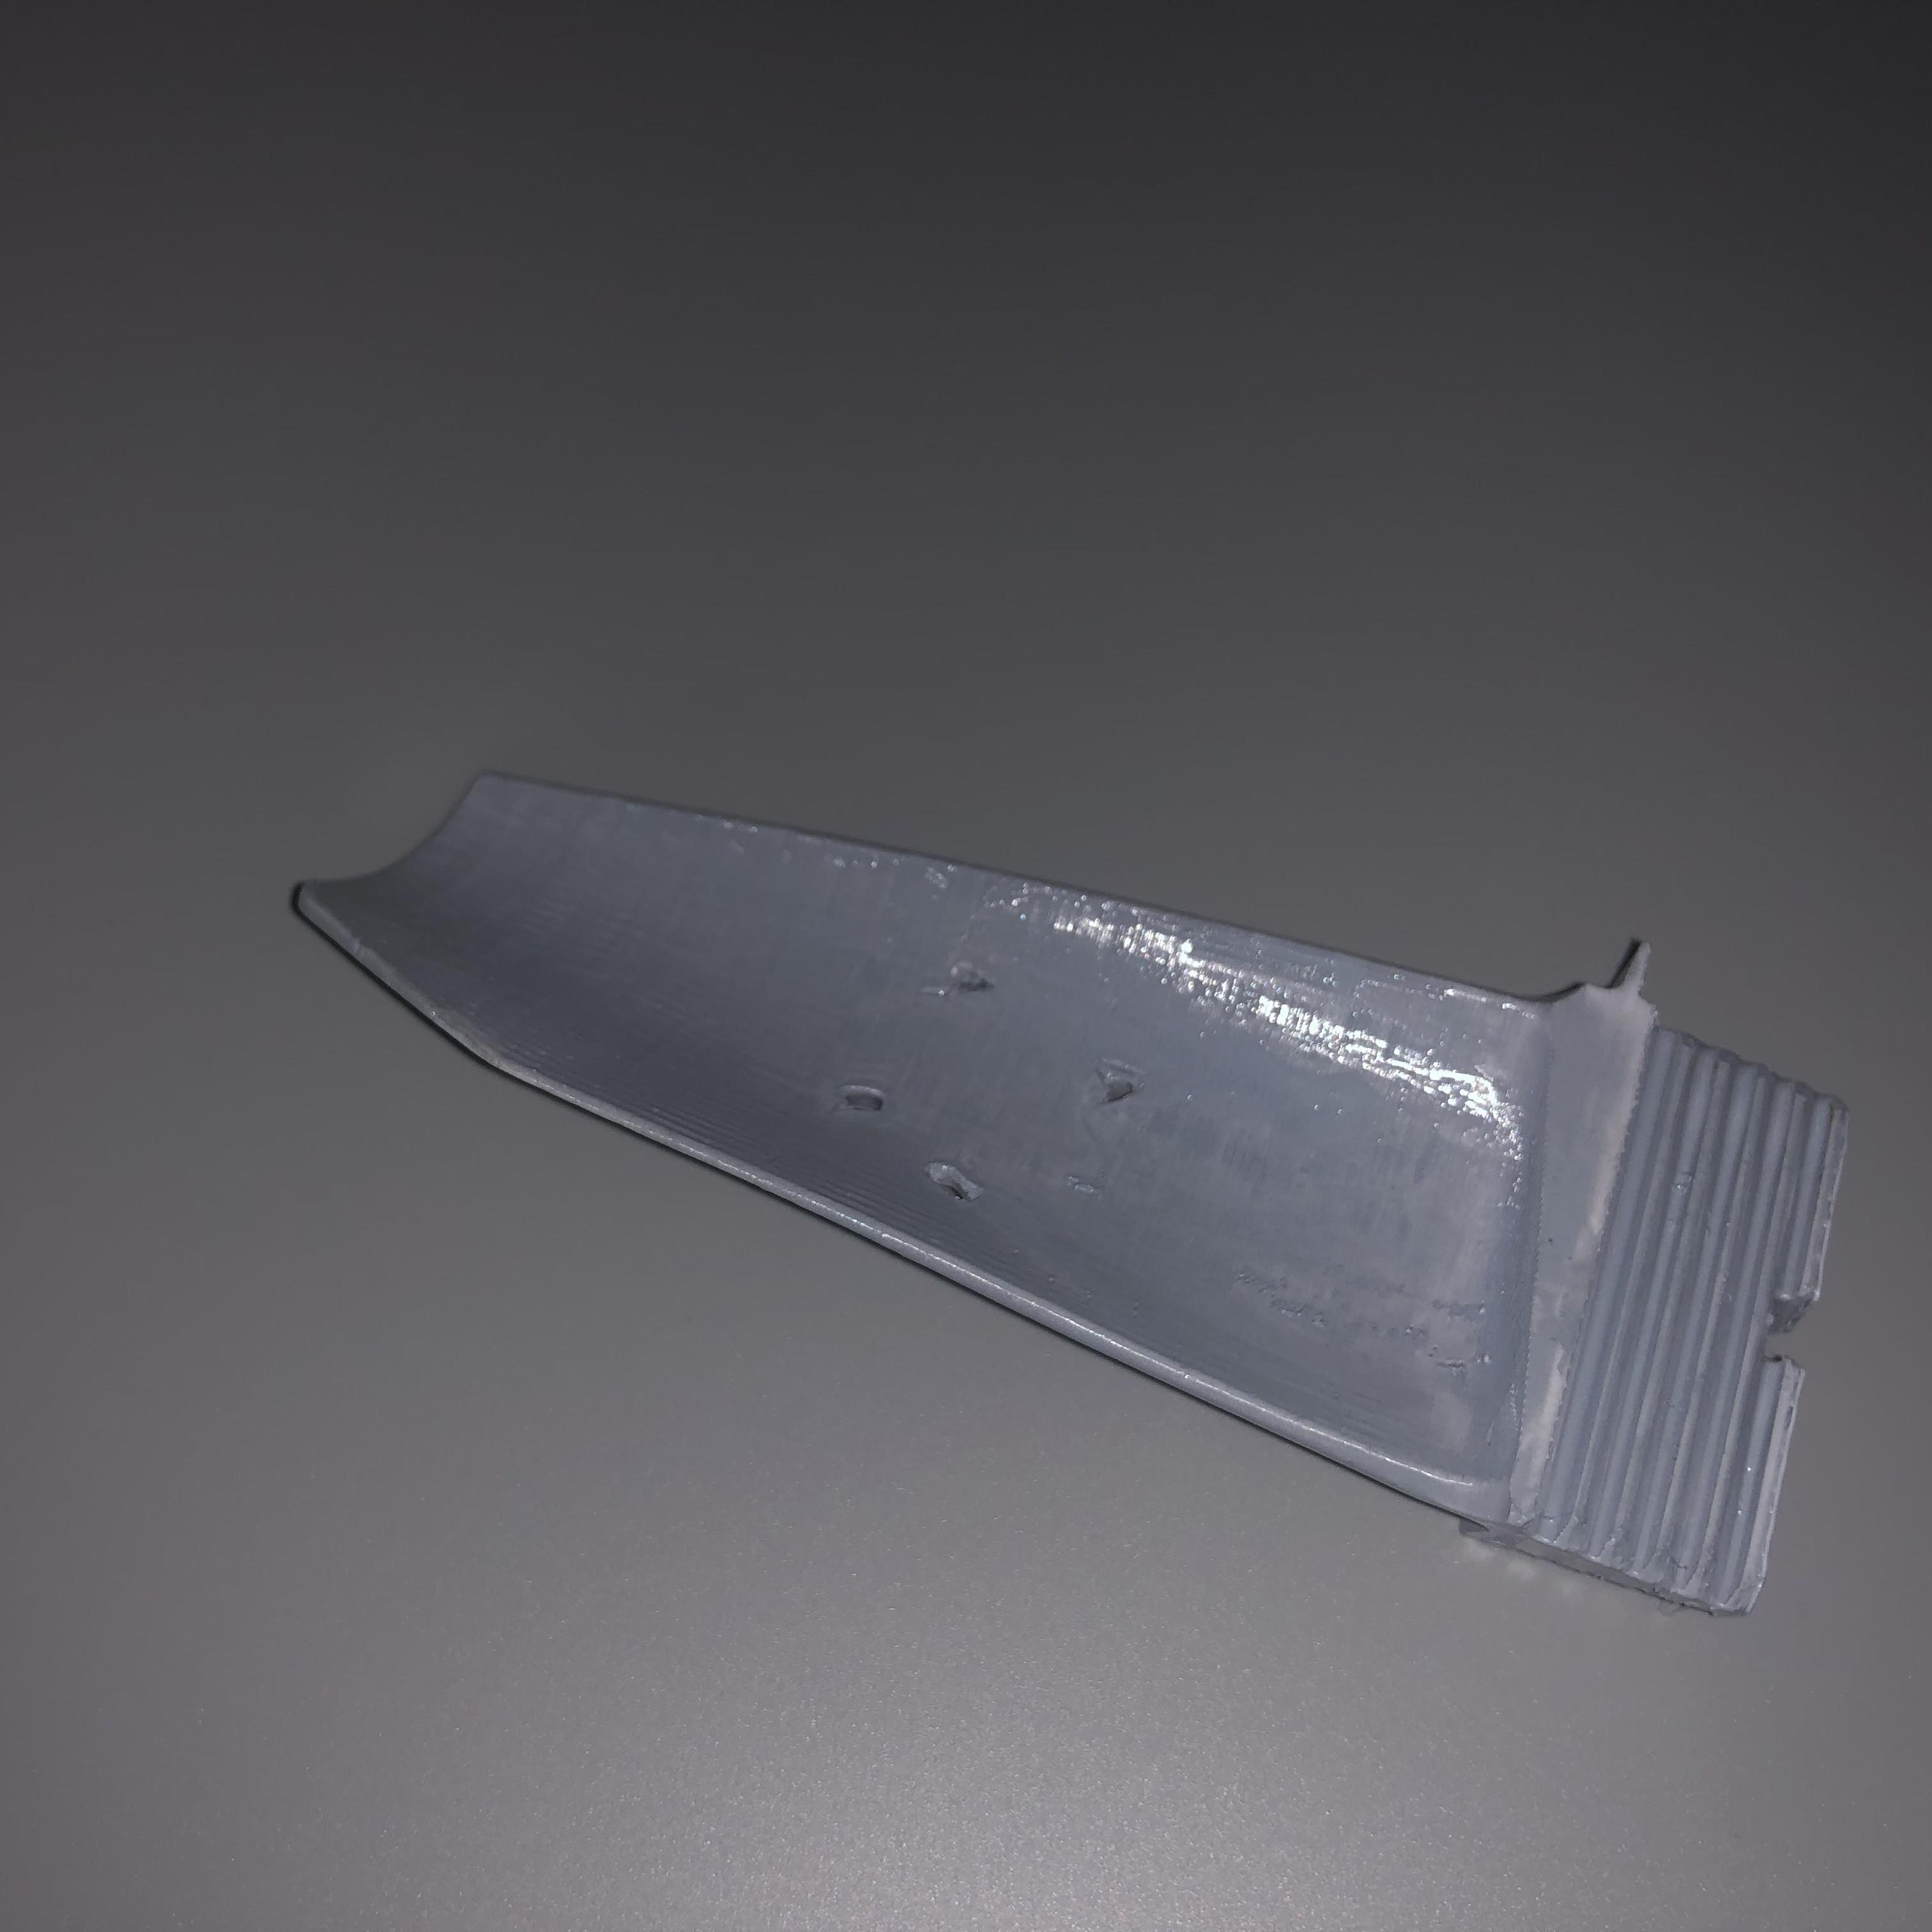breakdown: (840, 1060, 998, 1212), (934, 959, 1003, 1005), (1093, 1063, 1157, 1109)
